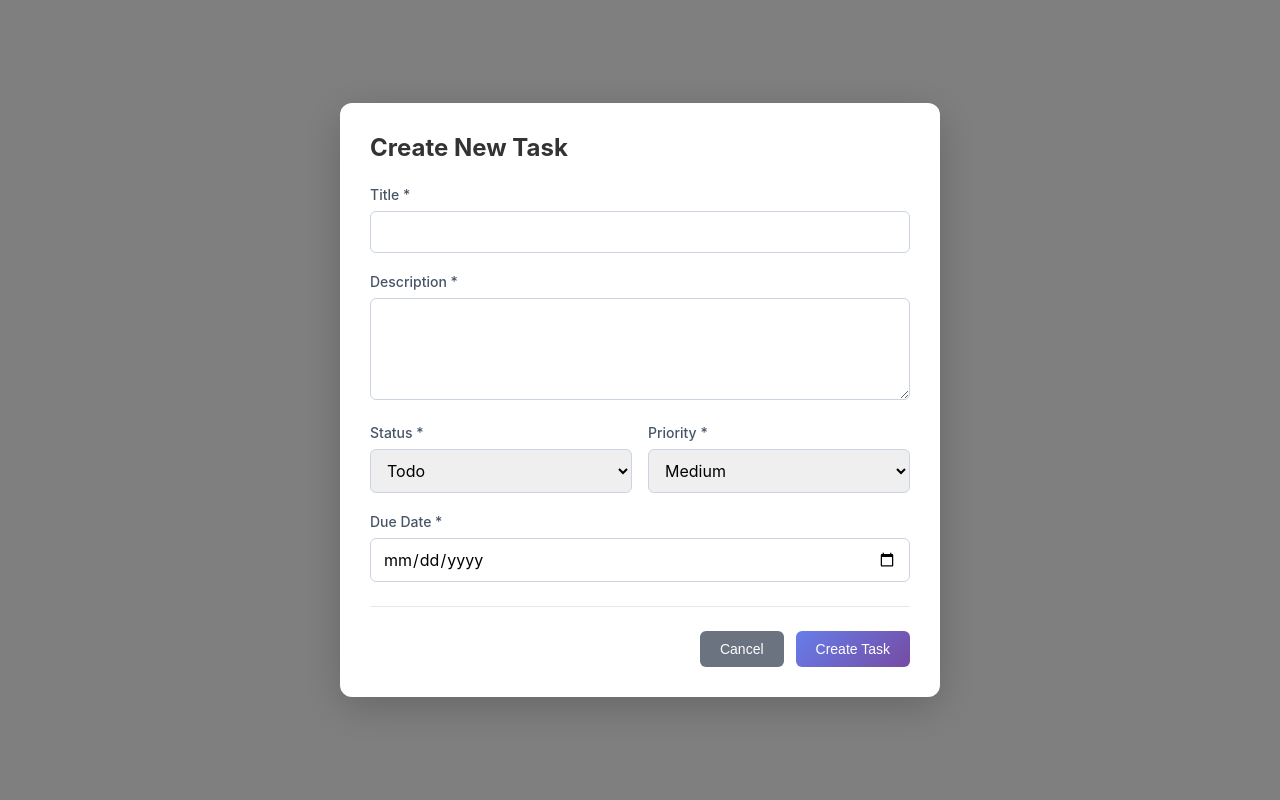
Test: TaskForm › disables form fields while loading
In the field labelled "Title *": point(640, 232) left=370, top=211, right=910, bottom=253, type "Test Task"
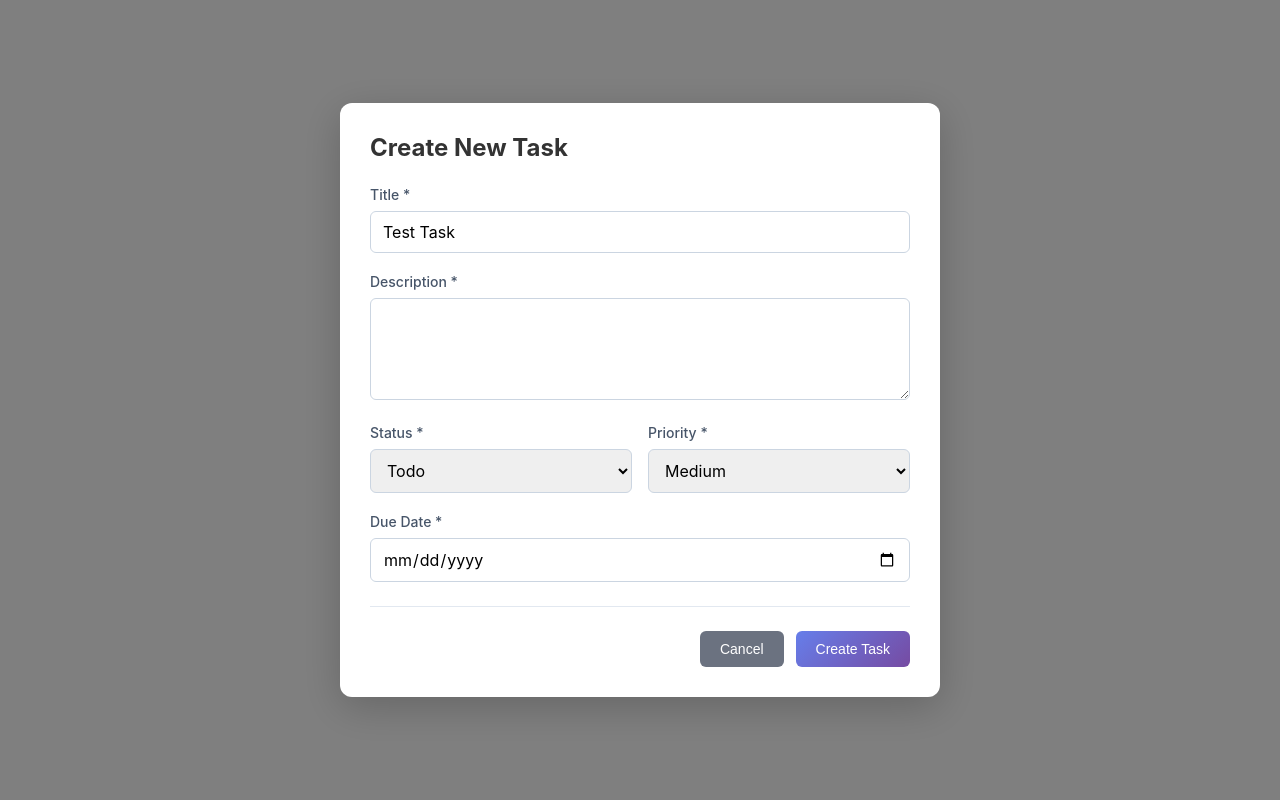
In the text box labelled "Description *": point(640, 349) left=370, top=298, right=910, bottom=400, type "Test Description"
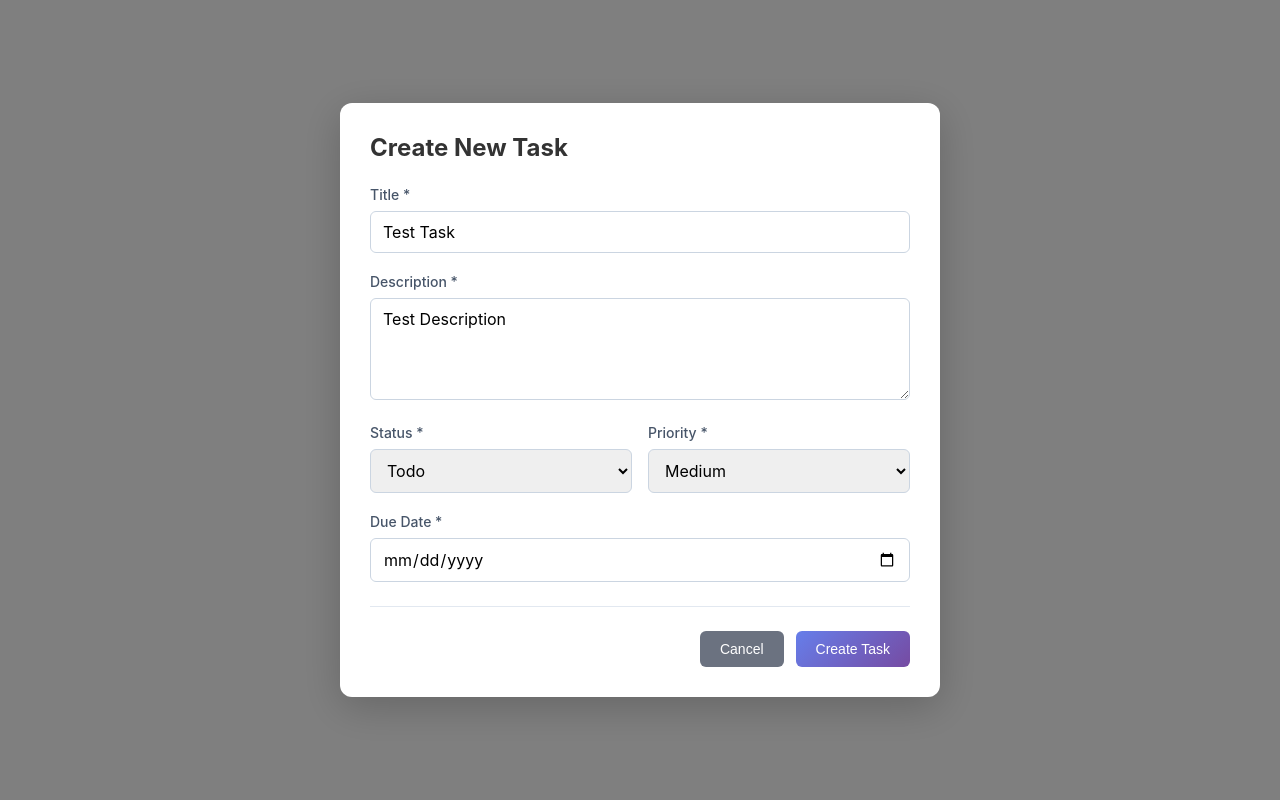
In the date field labelled "Due Date *": point(640, 560) left=370, top=538, right=910, bottom=582, type "2024-12-31"
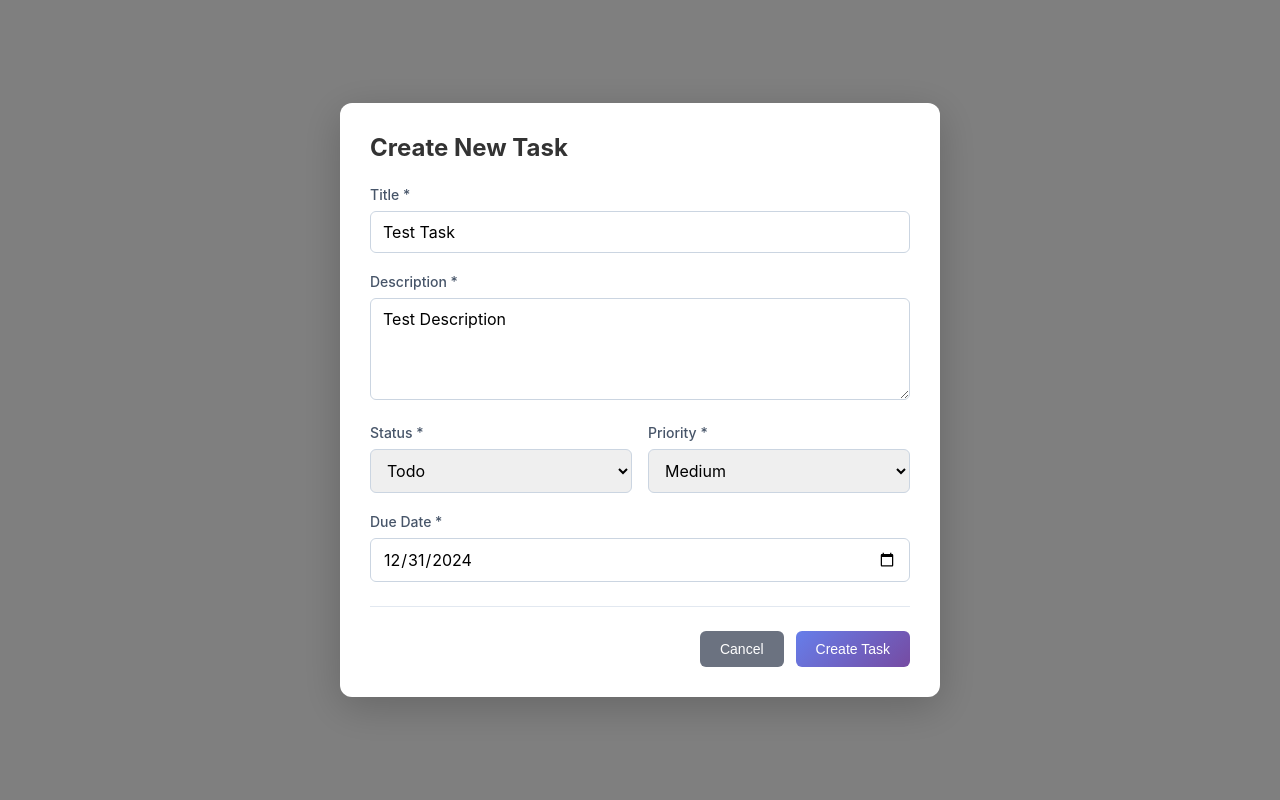
Click the button "Create Task": point(853, 649) left=796, top=631, right=910, bottom=667
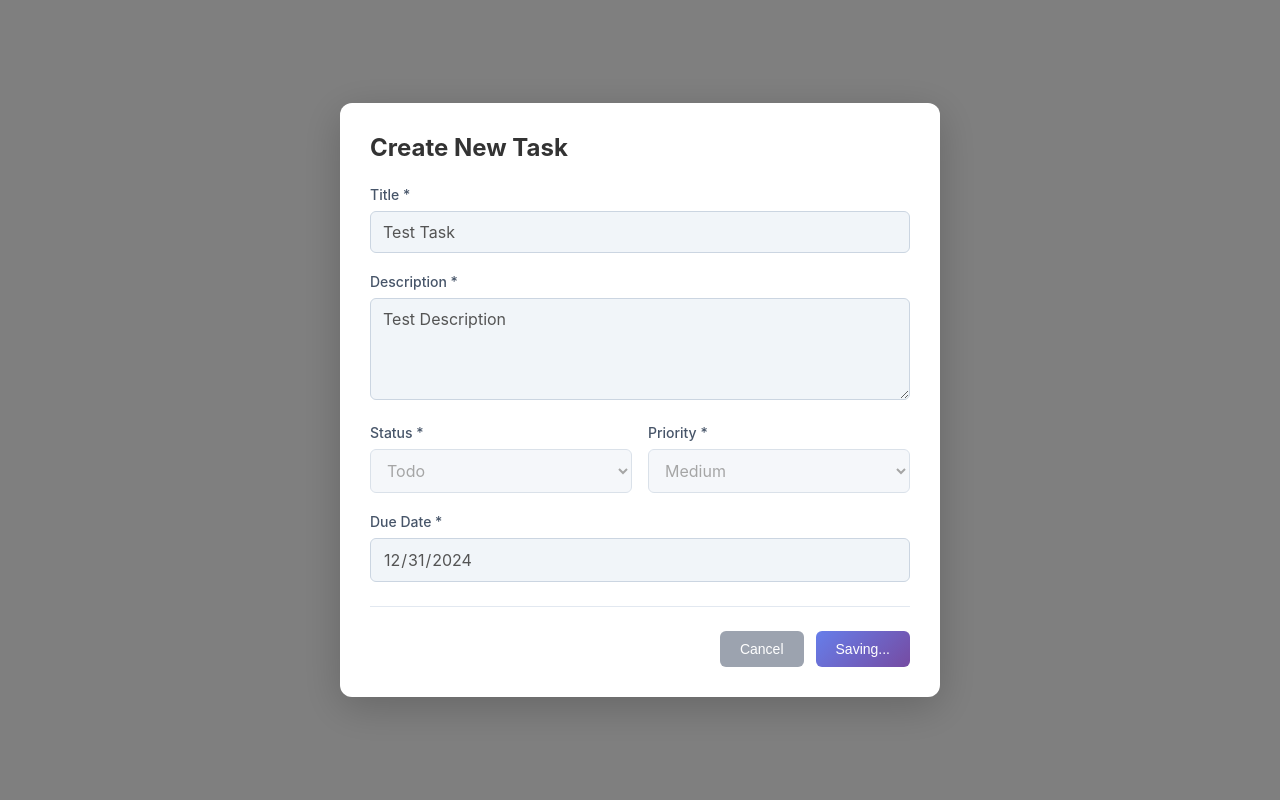
Expected: the field labelled "Title *" is disabled, left=370, top=211, right=910, bottom=253
Expected: the text box labelled "Description *" is disabled, left=370, top=298, right=910, bottom=400
Expected: the dropdown labelled "Status *" is disabled, left=370, top=449, right=632, bottom=493
